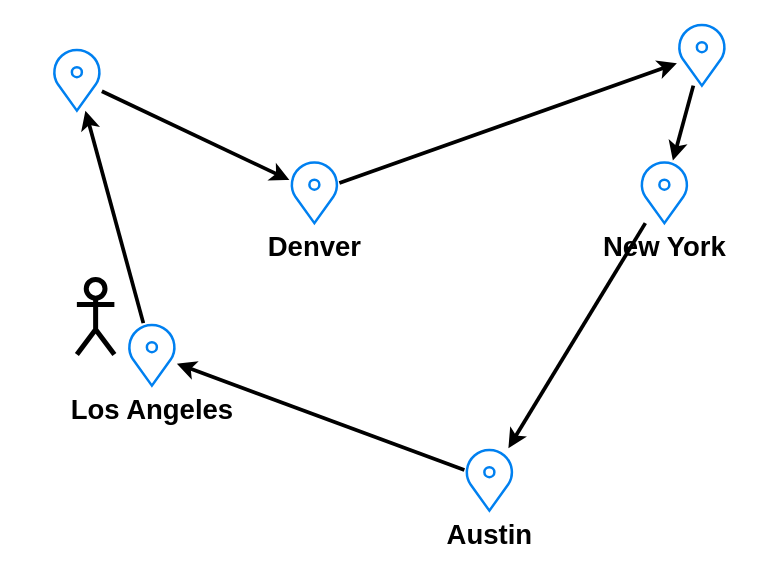
Some shapes in this 771 by 573 pixel diagram are drawn without their labels. The shapes that lost their labels are listed below. From the top down, each one's centre as x and y in pixels, then its label:
the point at 701,53: Boston
the point at 76,78: Portland
